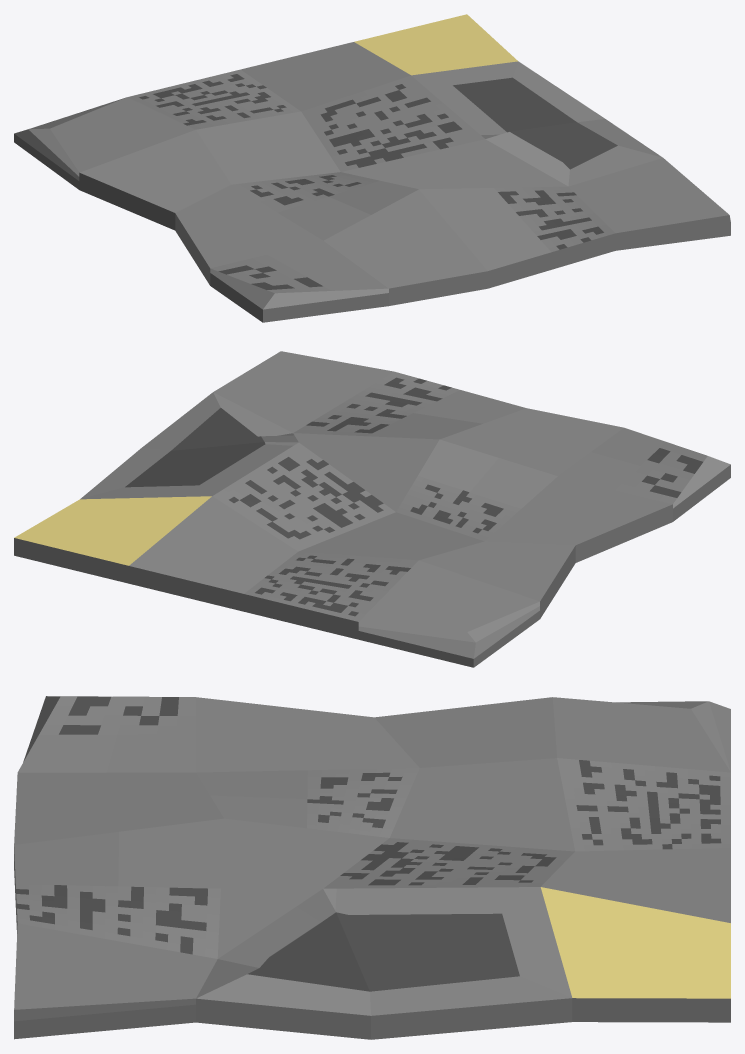
The model's file is Newspaper or sleeping bag.fbx.
The picture shows the model from 3 angles, top to bottom: view 1: azimuth 30°, elevation 25°; view 2: azimuth 150°, elevation 25°; view 3: azimuth 270°, elevation 25°; orthographic projection. The views are drawn at different scales.
Parts seen in each view (by area): view 1: Cube; view 2: Cube; view 3: Cube.
Part boxes in pixels (left/top/right/bottom): Cube: left=14, top=14, right=730, bottom=322; Cube: left=14, top=351, right=730, bottom=667; Cube: left=14, top=696, right=730, bottom=1039.
Size of the model in its own units: 319 by 32.98 by 315.
